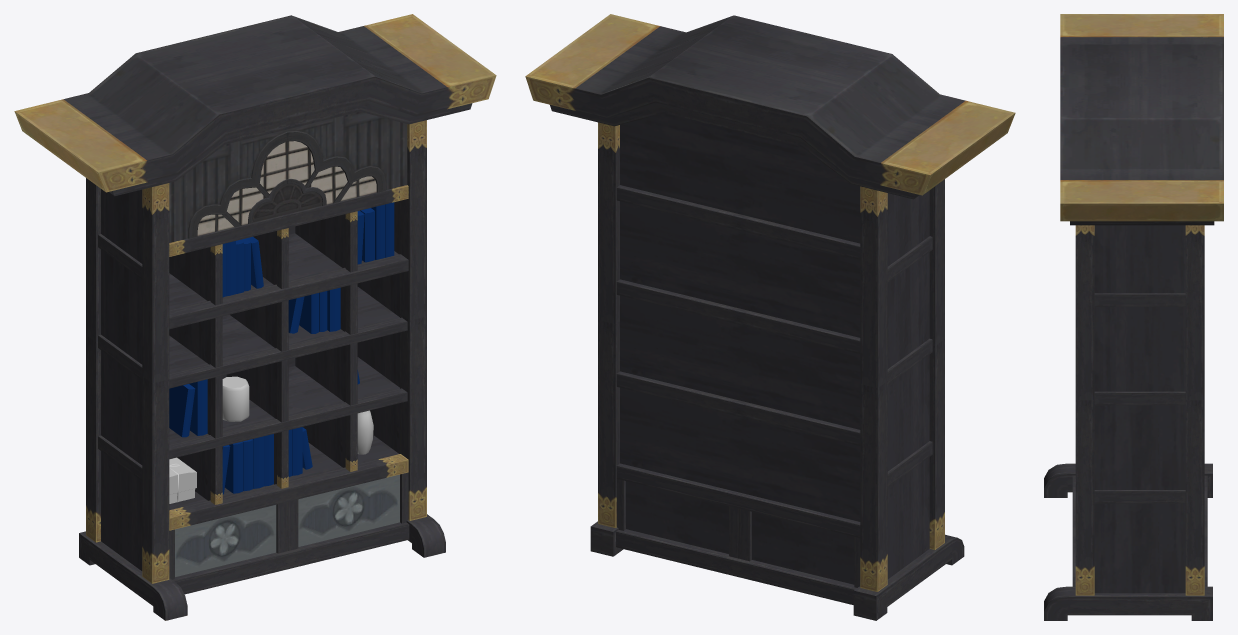
Rendered from Homeworld_Interior_Dq_Cabinet_Cabinet_02_Vo.fbx.
The picture shows the model from 3 angles, left to right: view 1: azimuth 30°, elevation 25°; view 2: azimuth 150°, elevation 25°; view 3: azimuth 270°, elevation 25°; orthographic projection. The views are drawn at different scales.
Visible parts, largest first — view 1: Indoor_Dq_Prop_Comp_Cabinet_01_Vo; view 2: Indoor_Dq_Prop_Comp_Cabinet_01_Vo; view 3: Indoor_Dq_Prop_Comp_Cabinet_01_Vo.
Boxes of the visible parts, x1=… form: Indoor_Dq_Prop_Comp_Cabinet_01_Vo: x1=14, y1=14, x2=496, y2=620; Indoor_Dq_Prop_Comp_Cabinet_01_Vo: x1=525, y1=14, x2=1015, y2=620; Indoor_Dq_Prop_Comp_Cabinet_01_Vo: x1=1044, y1=14, x2=1223, y2=620.
Bounding box in the file's own units: 2.12 × 2.47 × 0.8505.
